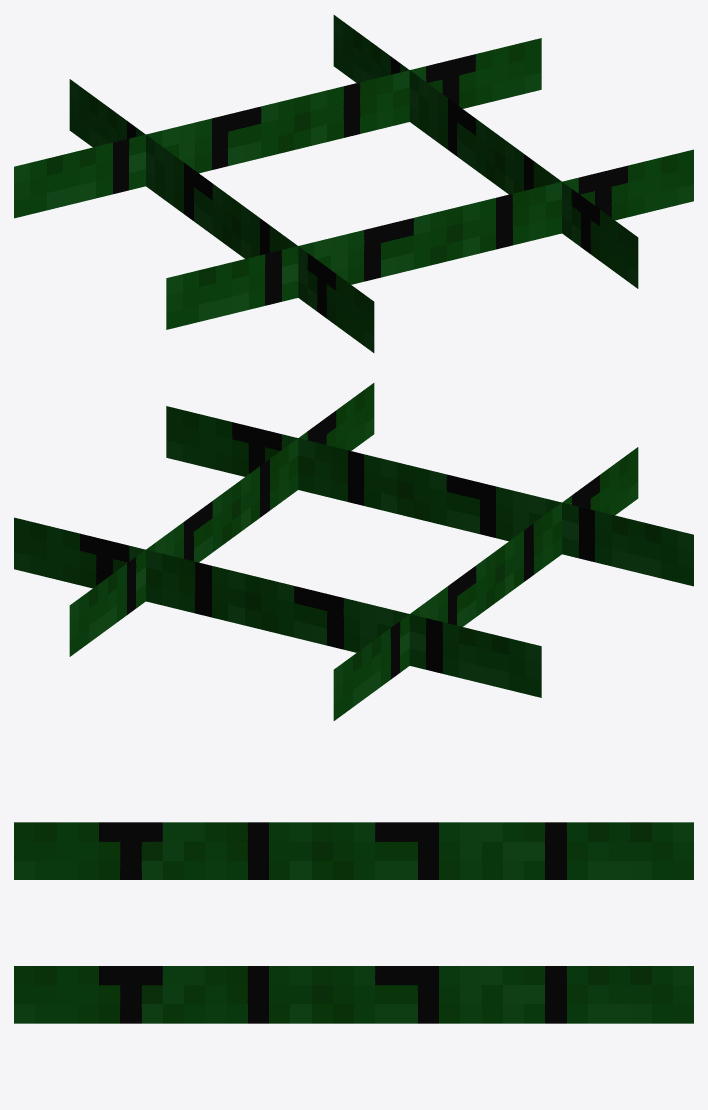
File: cropGrowthLower.obj
The picture shows the model from 3 angles, top to bottom: view 1: azimuth 30°, elevation 25°; view 2: azimuth 150°, elevation 25°; view 3: azimuth 270°, elevation 25°; orthographic projection. The views are drawn at different scales.
Parts seen in each view (by area): view 1: westFace, northFace, southFace, eastFace; view 2: westFace, northFace, southFace, eastFace; view 3: northFace, southFace.
Part boxes in pixels (x1,y1,x2,y2): westFace: [14, 38, 693, 329]; northFace: [69, 19, 638, 352]; southFace: [76, 15, 638, 349]; eastFace: [20, 43, 693, 276]; westFace: [14, 406, 693, 697]; northFace: [73, 393, 638, 720]; southFace: [69, 383, 637, 666]; eastFace: [14, 413, 680, 643]; northFace: [14, 822, 693, 1022]; southFace: [14, 822, 693, 1023].
Bounding box in the file's own units: 1 × 0.0938 × 1.
1 material, 1 textured.
